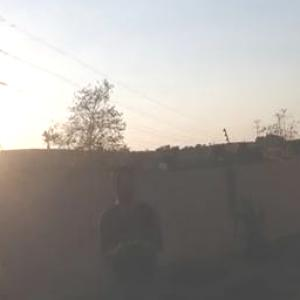follow: (91, 159, 170, 299)
